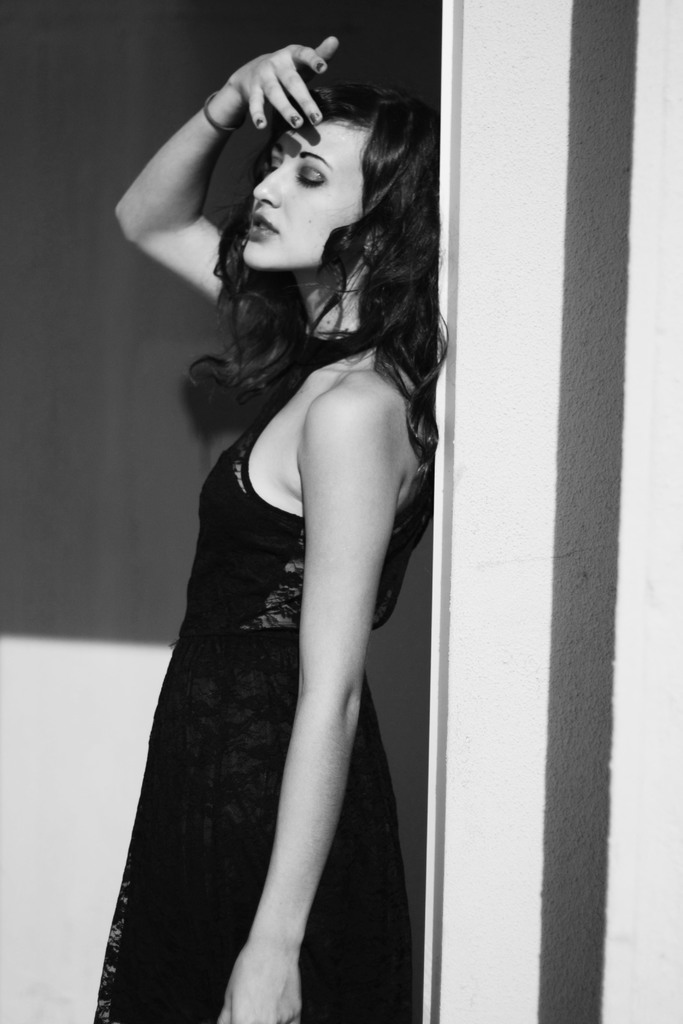Human-face: (241, 116, 361, 268)
